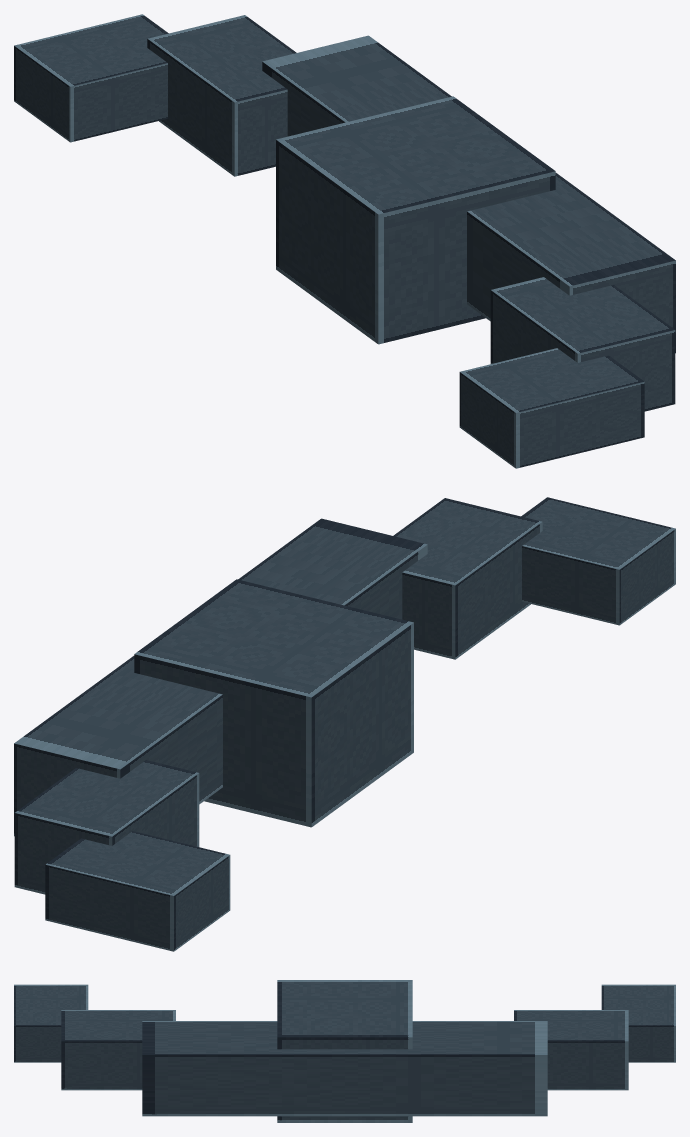
Rendered from bench_pickaxe_2.obj.
3 views of the same model, one above another, from view 1: azimuth 30°, elevation 25°; view 2: azimuth 150°, elevation 25°; view 3: azimuth 270°, elevation 25° (orthographic). The views are drawn at different scales.
Visible parts, largest first — view 1: geometry; view 2: geometry; view 3: geometry.
Part boxes in pixels (x1,y1,x2,y2): geometry: [14, 14, 675, 468]; geometry: [14, 497, 675, 951]; geometry: [14, 980, 675, 1122].
Size of the model in its own units: 0.2219 by 0.1071 by 0.75.
